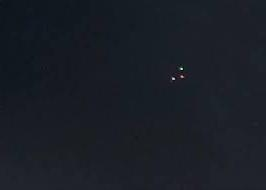Plane: (160, 59, 196, 87)
